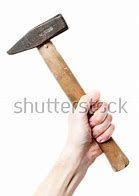hammer: (5, 12, 131, 173)
